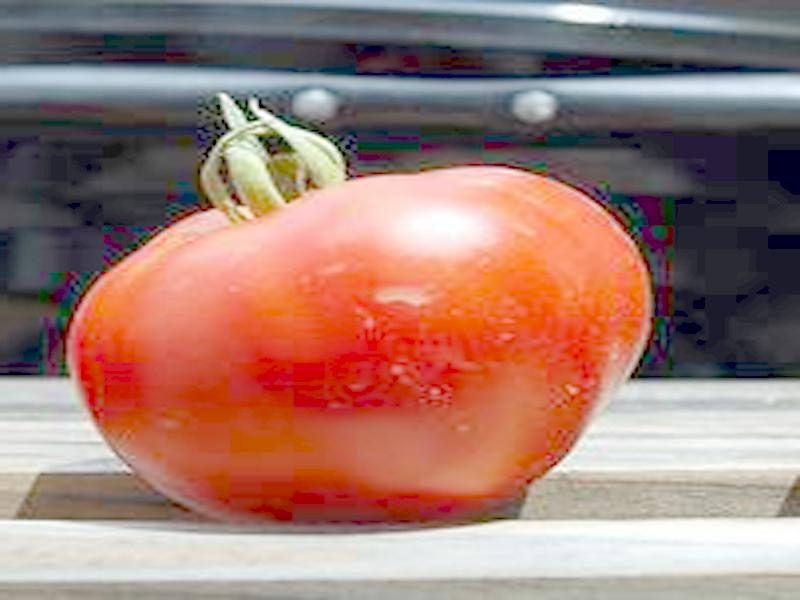Tomato: (70, 96, 649, 518)
